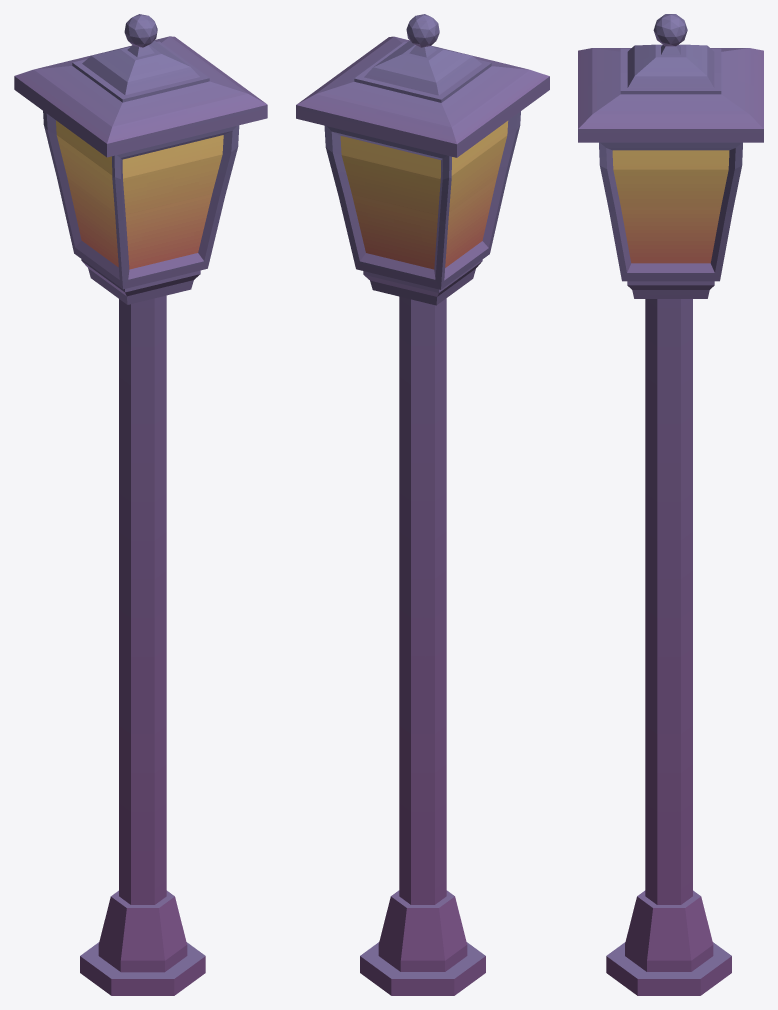
File: lantern.obj
3 renders of one model, left to right at view 1: azimuth 30°, elevation 25°; view 2: azimuth 150°, elevation 25°; view 3: azimuth 270°, elevation 25°, orthographic.
Visible parts, largest first — view 1: Lantern; view 2: Lantern; view 3: Lantern.
Part boxes in pixels (x1,y1,x2,y2): Lantern: [14, 14, 267, 995]; Lantern: [296, 14, 549, 995]; Lantern: [578, 14, 763, 995].
Size of the model in its own units: 2.43 by 13.81 by 2.43.
Materials: 1 (1 with a texture image).
